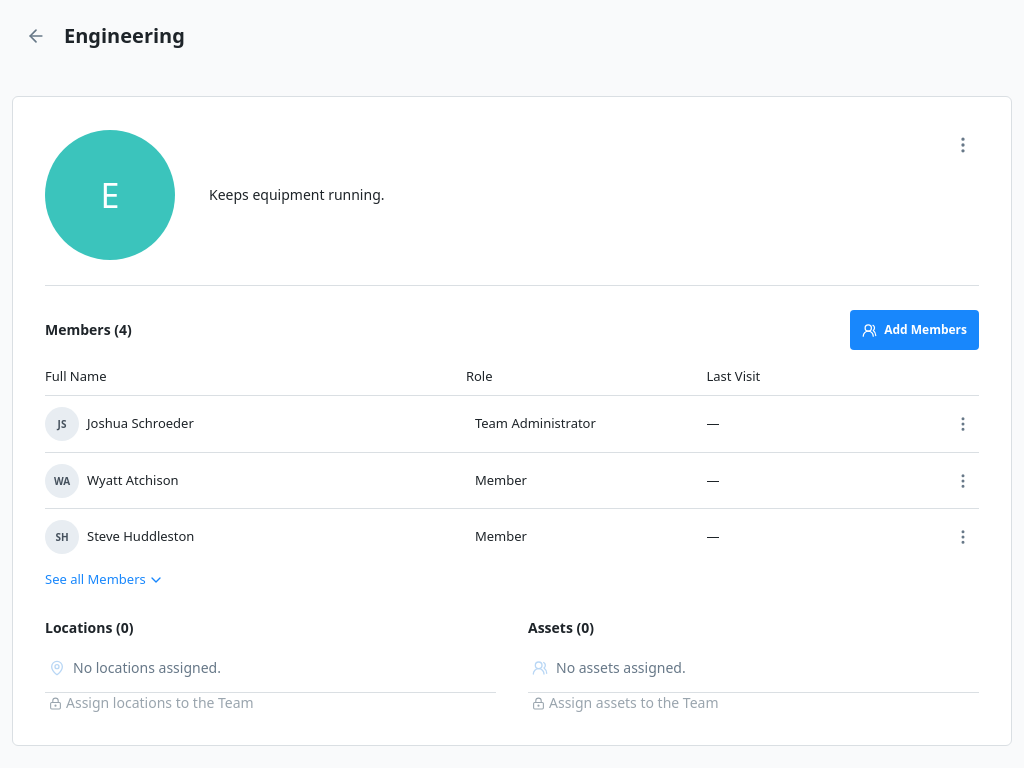
Scenario: TeamDetailsPage › uses the app confirmation dialog before deleting a team
The width and height of the screenshot is (1024, 768).
Expected: the heading "Engineering" is shown, left=64, top=24, right=185, bottom=48
Click the button named "Team actions": (963, 145) left=947, top=129, right=979, bottom=161
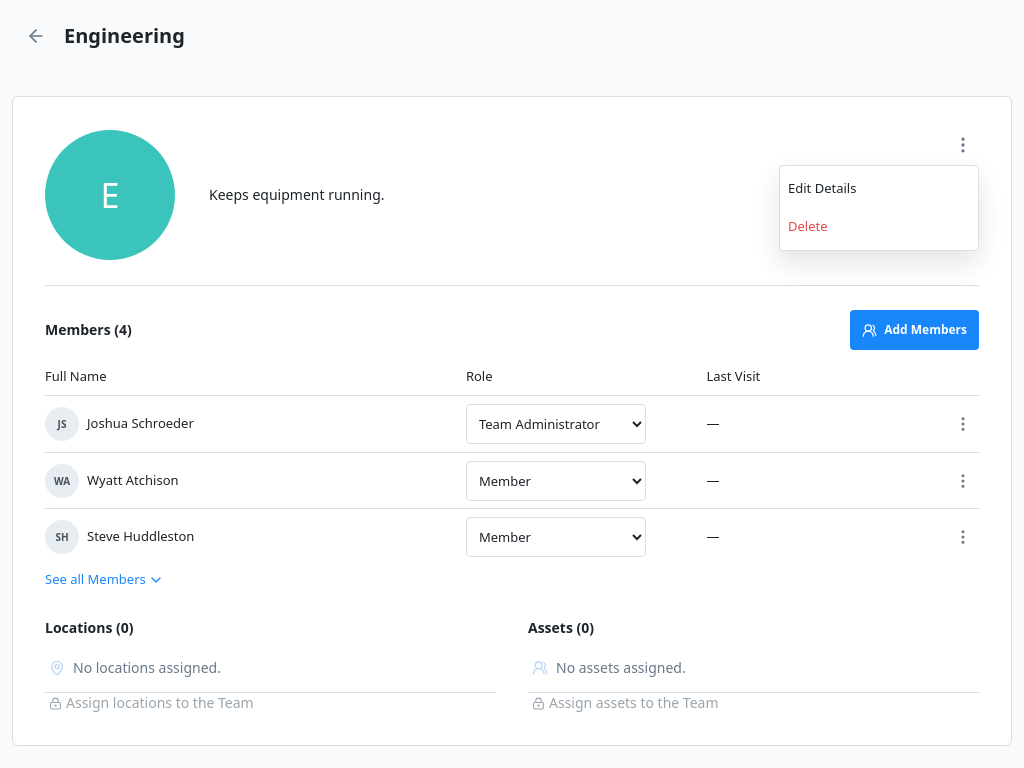
Click the menu item "Delete": (879, 227) left=780, top=208, right=978, bottom=246
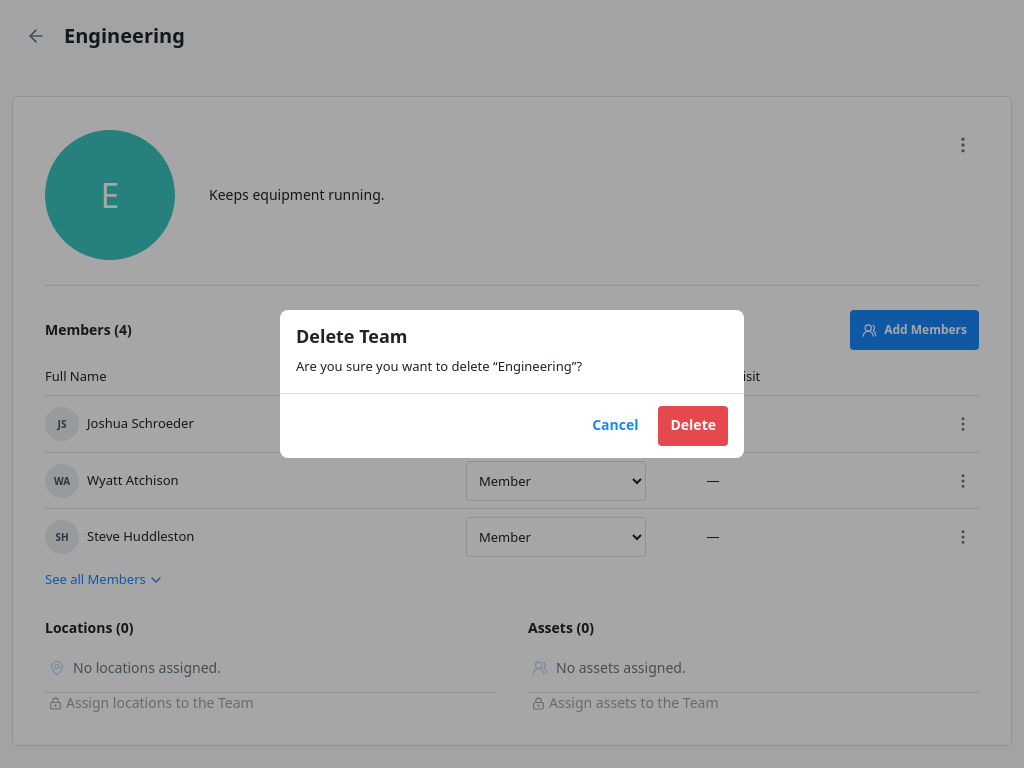
Expected: the dialog shows "Are you sure you want to delete “Engineering”?", left=280, top=310, right=744, bottom=458
Expected: the button "Cancel" is shown
Click the button "Cancel": (615, 426) left=580, top=406, right=650, bottom=446
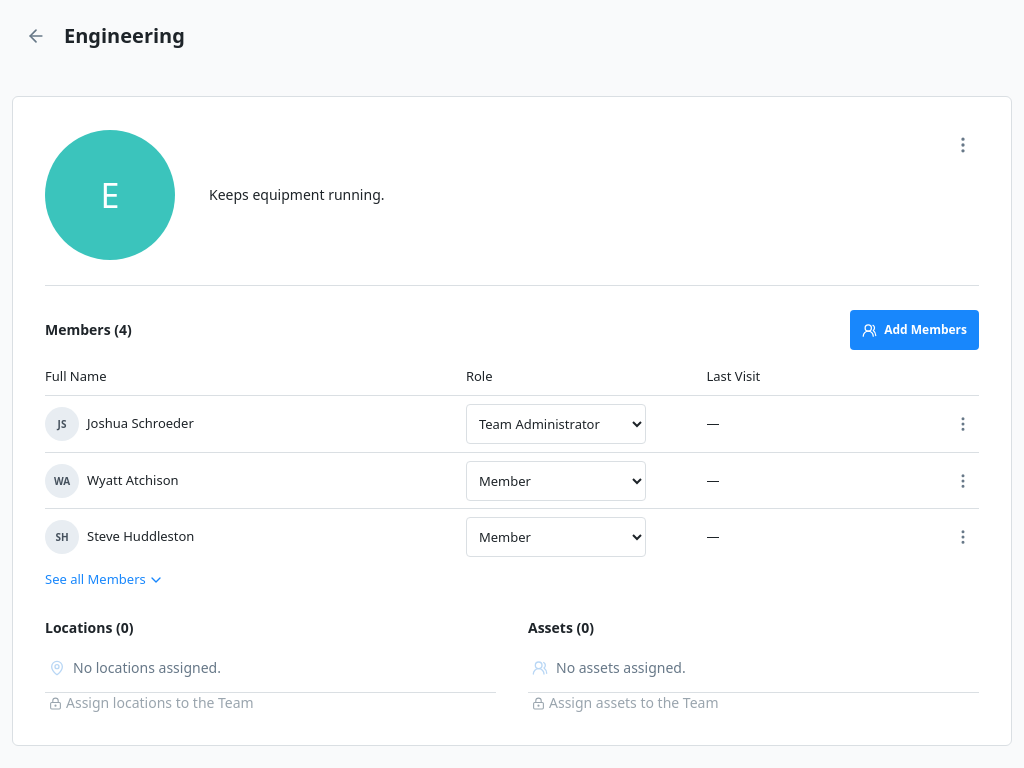
Expected: the dialog is gone
